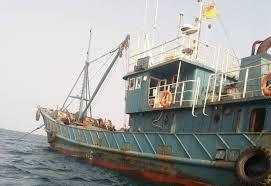Ship: (37, 2, 271, 186)
